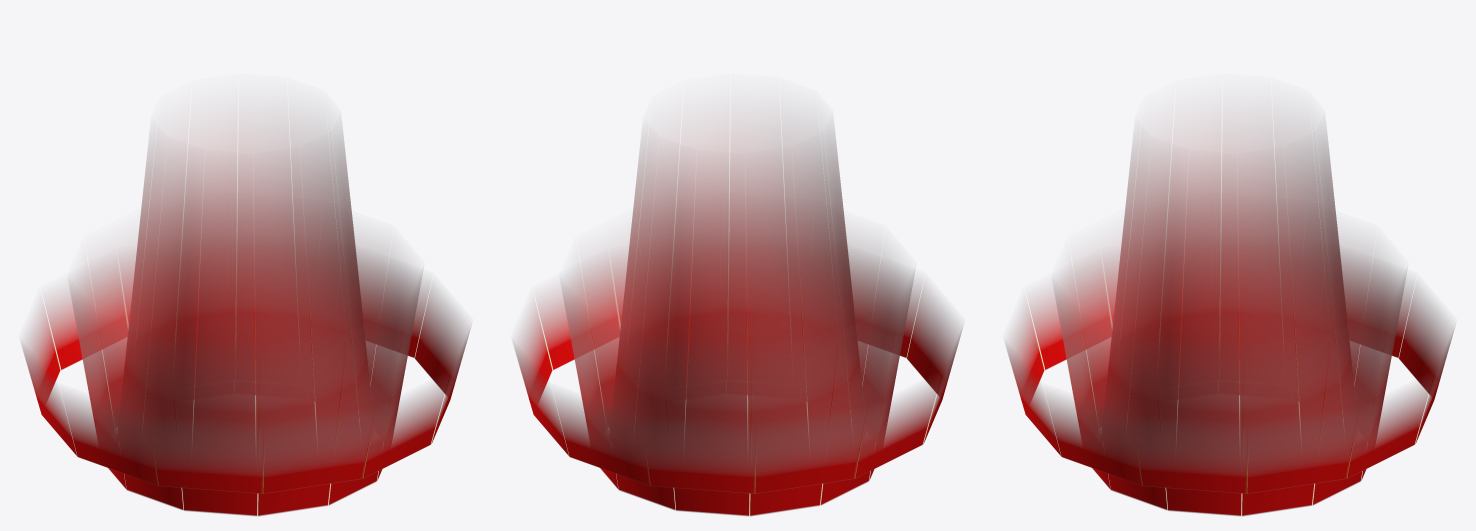
File: PortalFade01.glb
The picture shows the model from 3 angles, left to right: view 1: azimuth 30°, elevation 25°; view 2: azimuth 150°, elevation 25°; view 3: azimuth 270°, elevation 25°; orthographic projection.
Parts seen in each view (by area): view 1: PortalFade01; view 2: PortalFade01; view 3: PortalFade01.
Part boxes in pixels (bbox=[...]): PortalFade01: bbox=[20, 103, 471, 516]; PortalFade01: bbox=[512, 103, 963, 516]; PortalFade01: bbox=[1004, 103, 1455, 516].
Size of the model in its own units: 1.66 by 1.59 by 1.66.
1 material, 1 textured.
